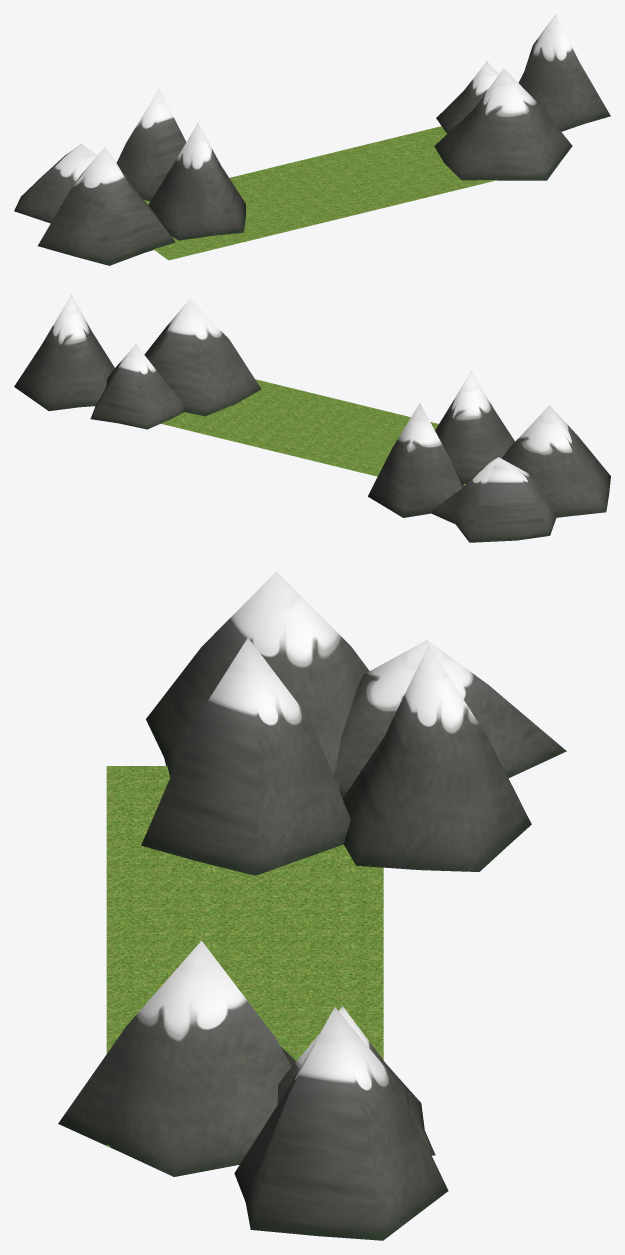
Rendered from terrain_6.glb.
3 views of the same model, one above another, from view 1: azimuth 30°, elevation 25°; view 2: azimuth 150°, elevation 25°; view 3: azimuth 270°, elevation 25° (orthographic). The views are drawn at different scales.
Visible parts, largest first — view 1: Plane.006; view 2: Plane.006; view 3: Plane.006.
Part boxes in pixels (x1,y1,x2,y2): Plane.006: (14,14,610,265); Plane.006: (14,294,610,542); Plane.006: (58,571,566,1240).
Bounding box in the file's own units: 190 × 30.73 × 73.47.
6 materials, 6 textured.
